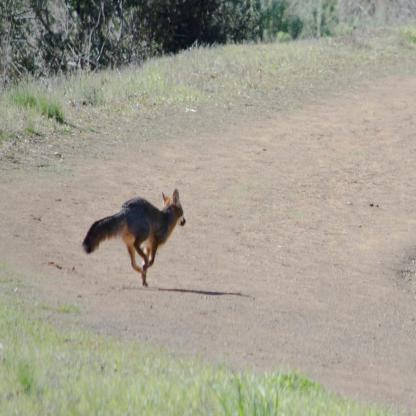zorro: (76, 187, 188, 287)
